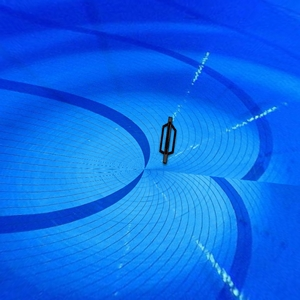submarine: (154, 116, 180, 166)
